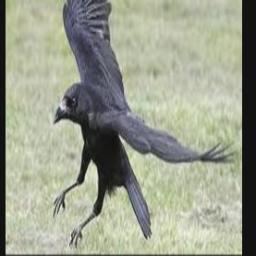Crow: (53, 0, 235, 246)
